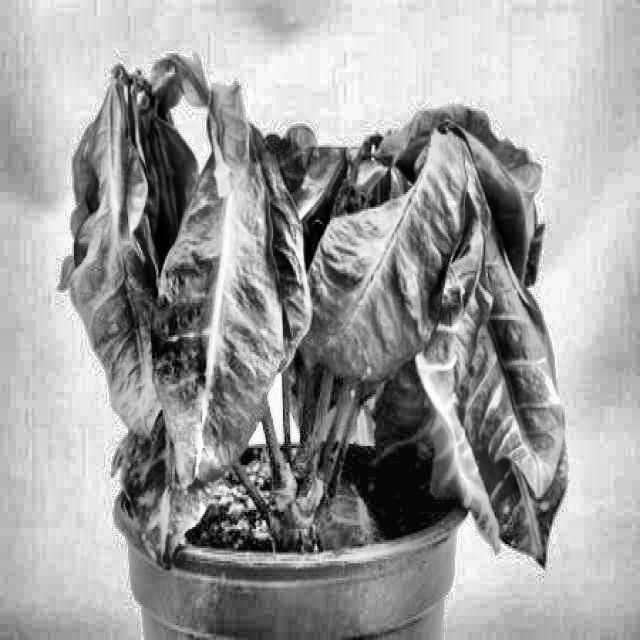plants: (55, 41, 576, 639), (110, 422, 220, 568)
